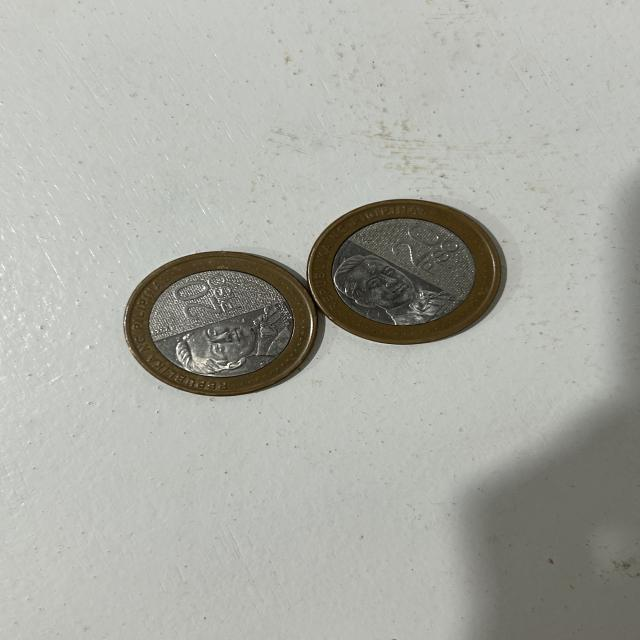20_New_Front: (385, 218, 467, 282), (174, 274, 248, 317)
